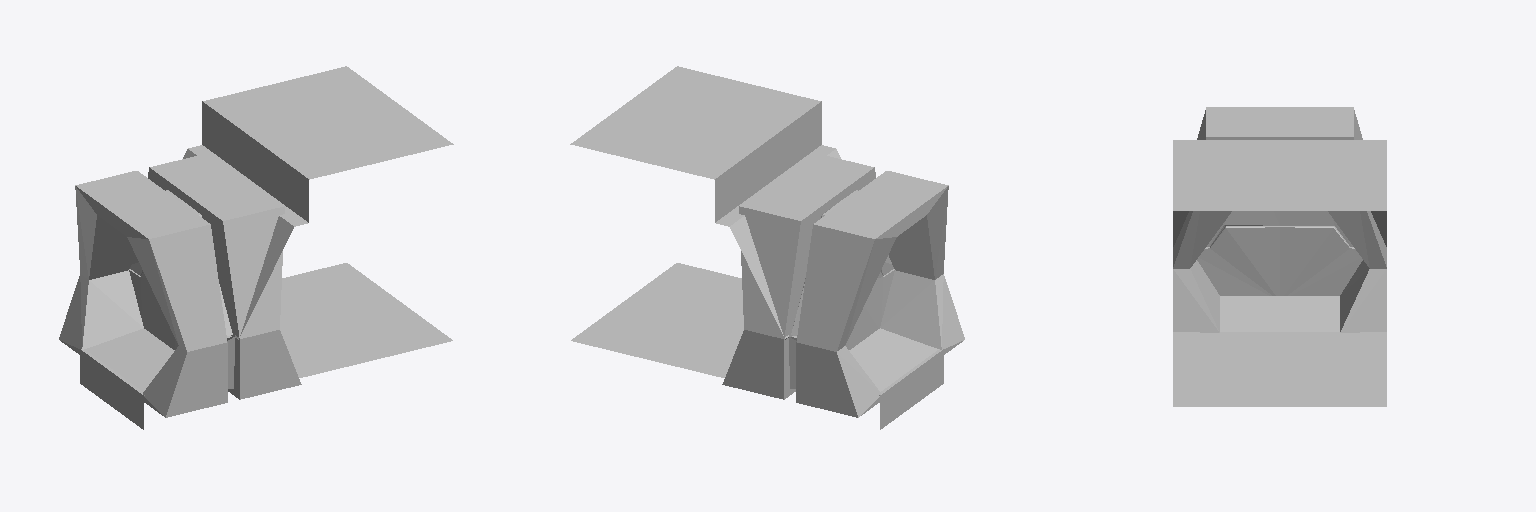
Rendered from room-entry.obj.
3 renders of one model, left to right at view 1: azimuth 30°, elevation 25°; view 2: azimuth 150°, elevation 25°; view 3: azimuth 270°, elevation 25°, orthographic.
Visible parts, largest first — view 1: Shape023, room_entry, lowerDoor; view 2: Shape023, room_entry, lowerDoor; view 3: room_entry, Shape023, lowerDoor, upperDoor.
Part boxes in pixels (x1,y1,x2,y2): Shape023: (59, 152, 301, 417); room_entry: (80, 66, 453, 429); lowerDoor: (129, 269, 232, 349); Shape023: (722, 152, 964, 417); room_entry: (570, 66, 943, 429); lowerDoor: (791, 269, 894, 349); room_entry: (1173, 140, 1386, 406); Shape023: (1173, 107, 1386, 332); lowerDoor: (1197, 226, 1362, 295); upperDoor: (1207, 211, 1352, 246).
Bounding box in the file's own units: 7.79 × 5.96 × 5.01.